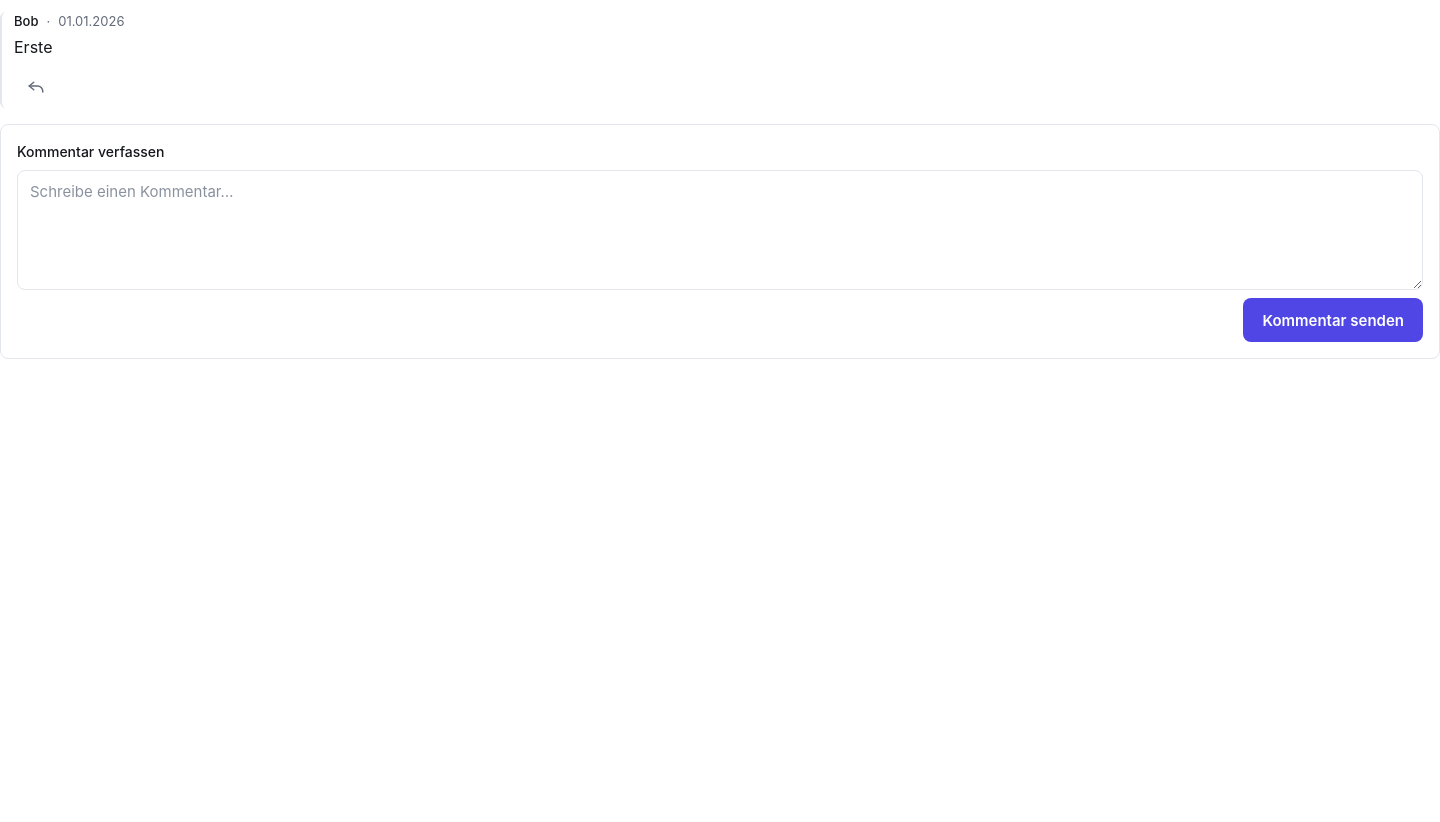
Scenario: CommentTree › posts a reply and refreshes the tree
Expected: the text "Erste" is shown, x1=14 y1=37 x2=52 y2=57
Click the button named "Antworten" at (36, 86), box x1=14 y1=64 x2=58 y2=108
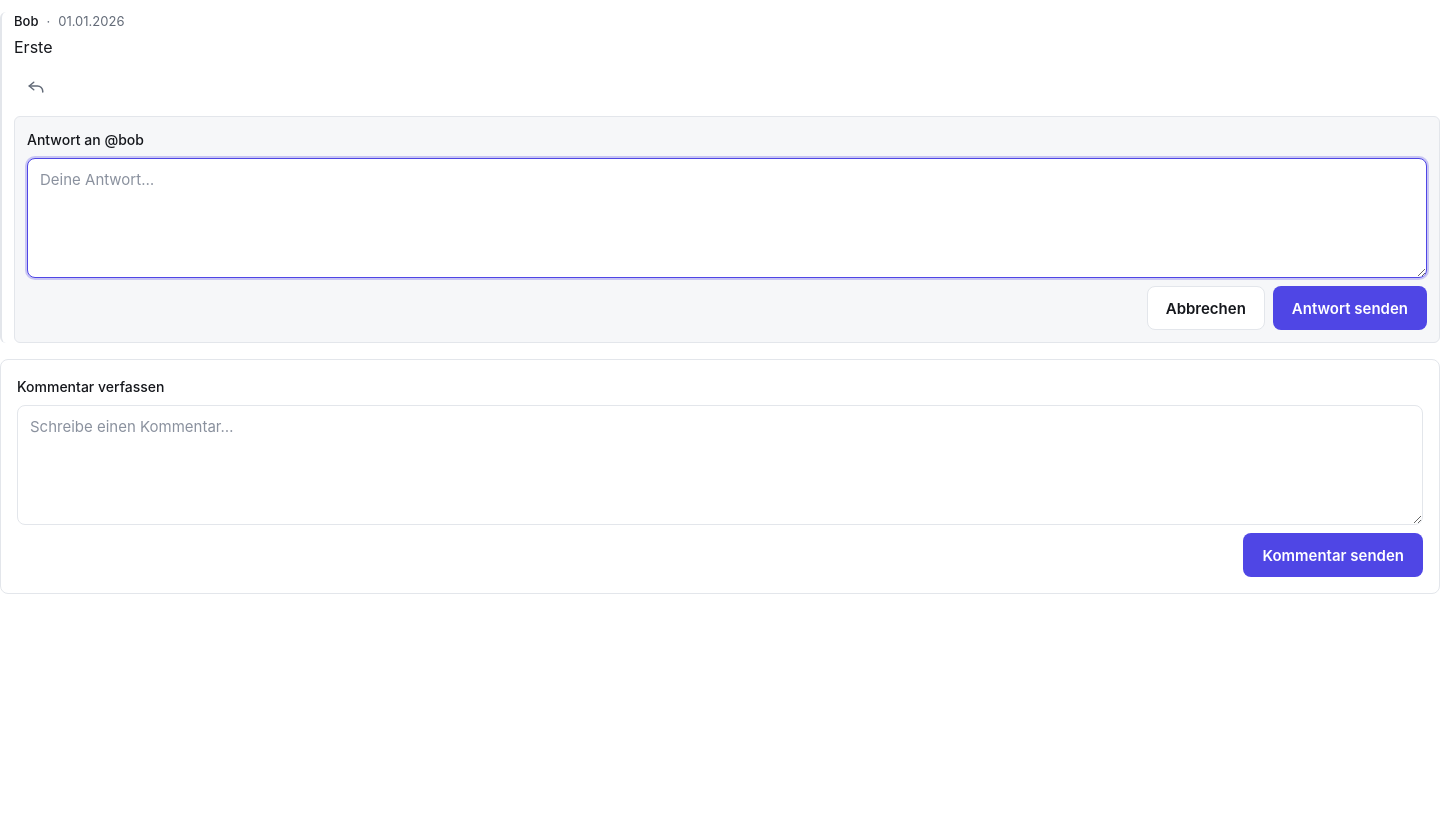
Type "Meine Antwort" into the text box labelled "Antwort an @bob" at (727, 218), box x1=27 y1=158 x2=1427 y2=278
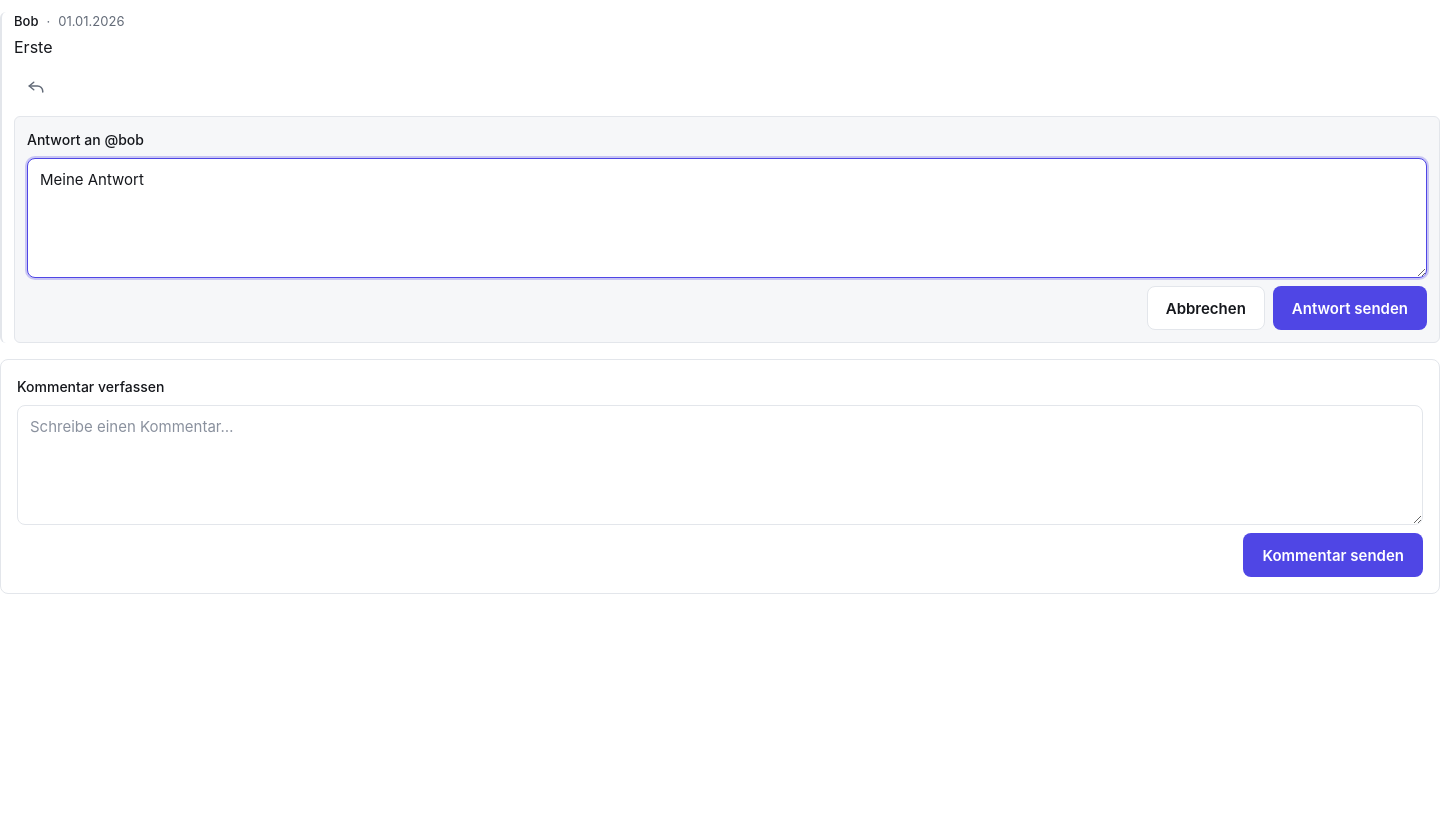
Click the button "Antwort senden" at (1350, 308), box x1=1273 y1=286 x2=1427 y2=330
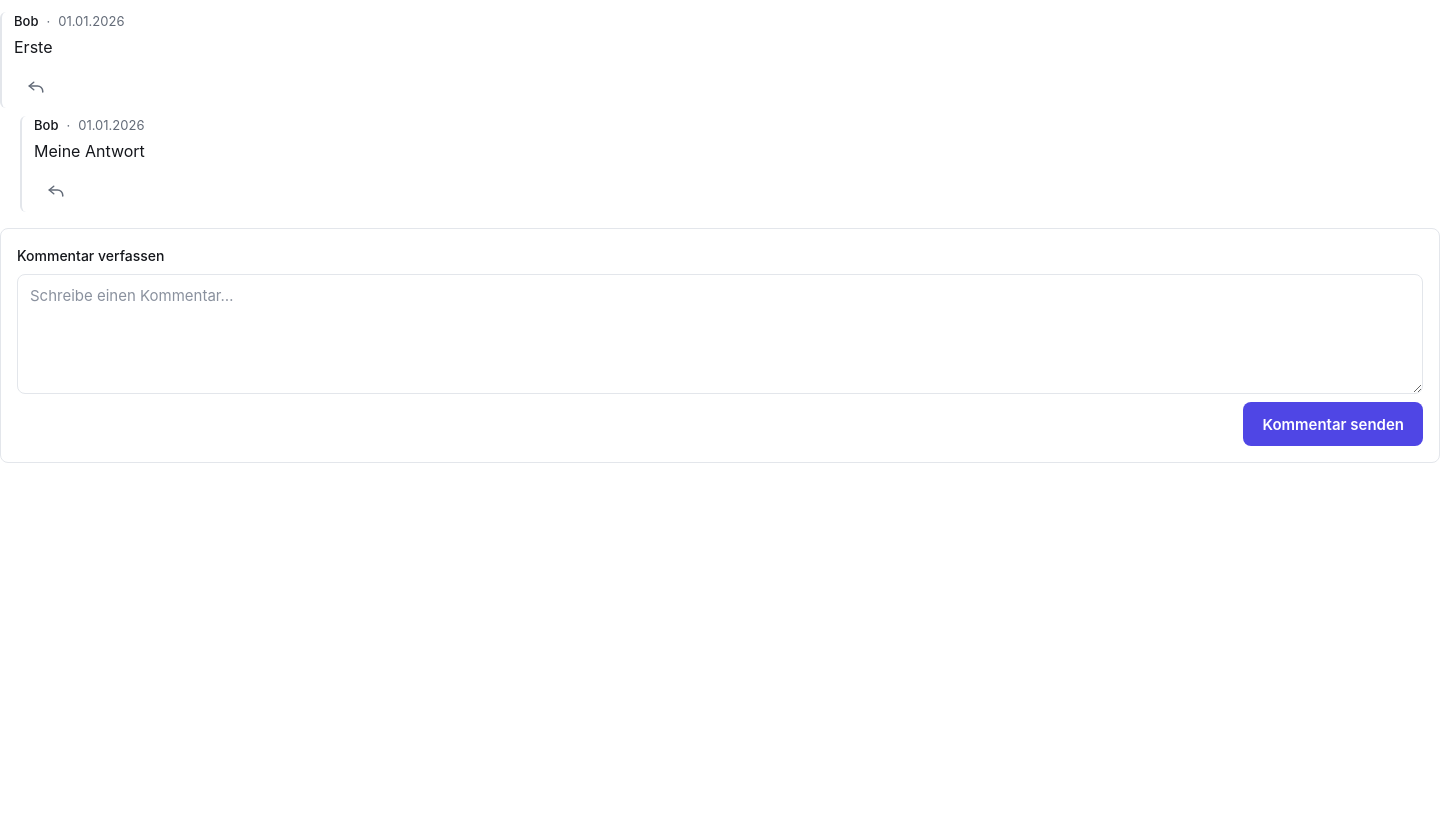
Expected: the text "Meine Antwort" is shown, x1=34 y1=141 x2=145 y2=161
